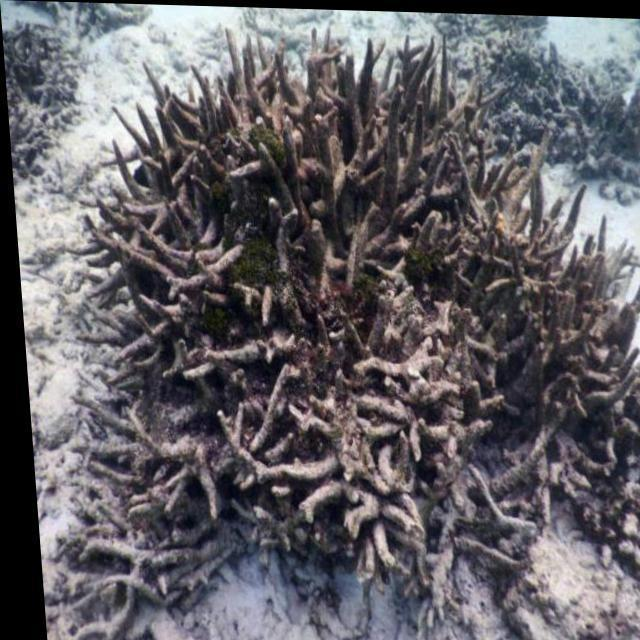Dead Coral: (53, 22, 640, 605)
